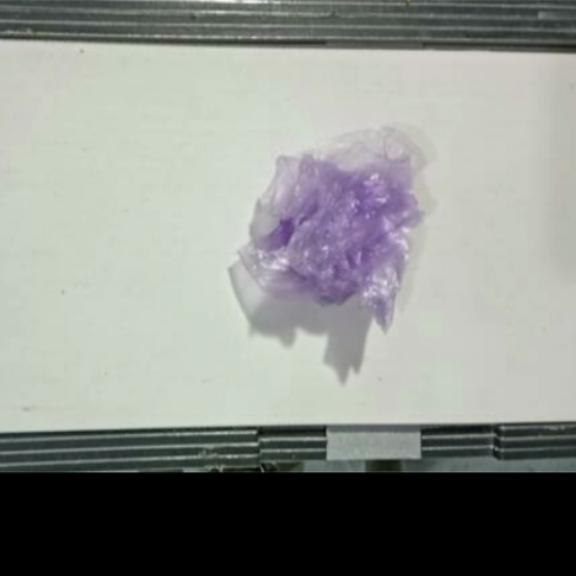Plastik: (238, 129, 427, 338)
